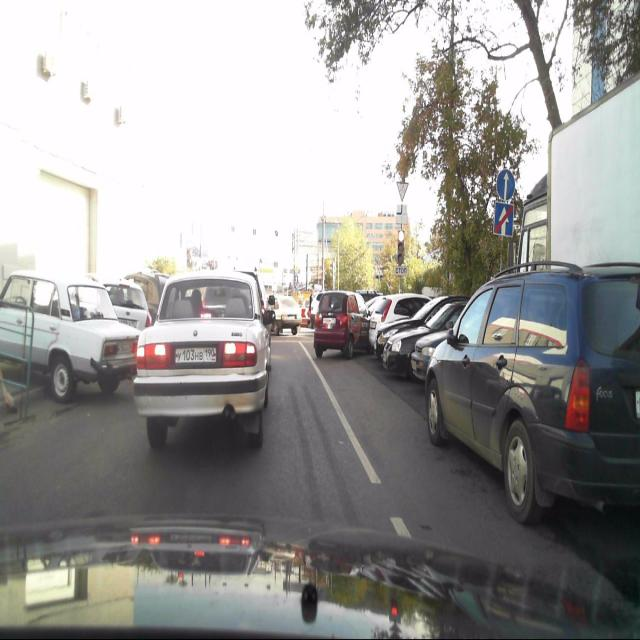road sign: (493, 202, 515, 236)
